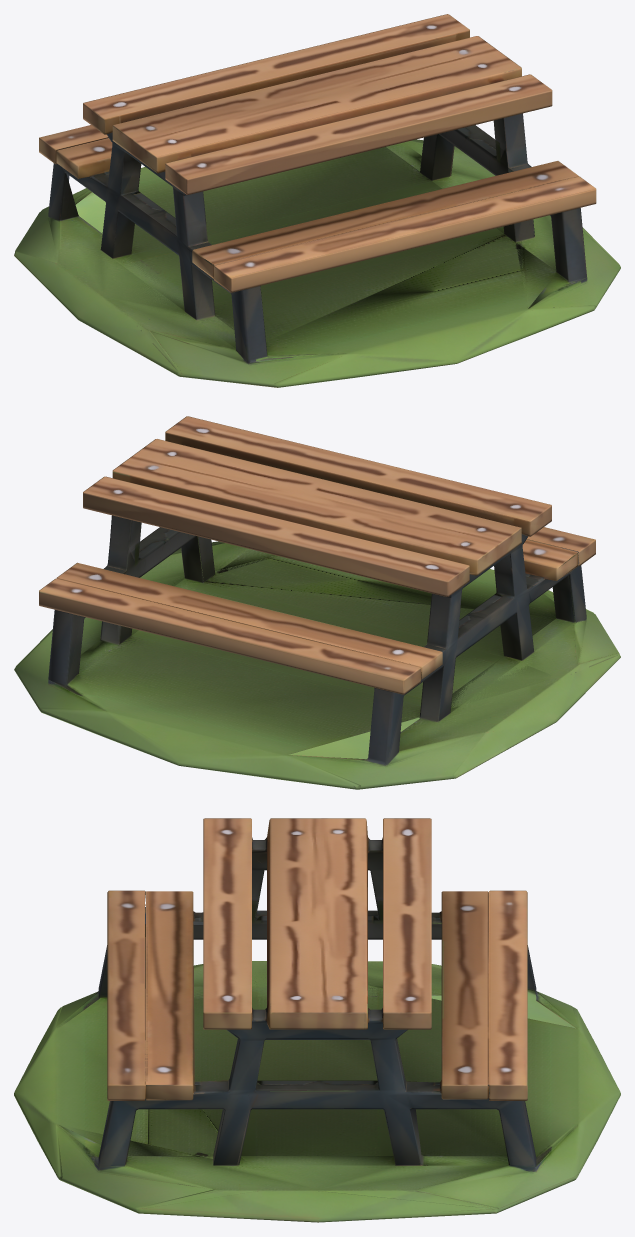
Rendered from Meshy_AI_Picnic_Perch_0131112215_texture.fbx.
3 views of the same model, one above another, from view 1: azimuth 30°, elevation 25°; view 2: azimuth 150°, elevation 25°; view 3: azimuth 270°, elevation 25° (orthographic). The views are drawn at different scales.
Parts seen in each view (by area): view 1: Mesh_0; view 2: Mesh_0; view 3: Mesh_0.
Part boxes in pixels (box(x1,y1,x2,y2)): Mesh_0: box(14, 14, 620, 387); Mesh_0: box(14, 416, 620, 789); Mesh_0: box(14, 818, 620, 1222).
Bounding box in the file's own units: 198 × 65.71 × 200.
1 material, 1 textured.
